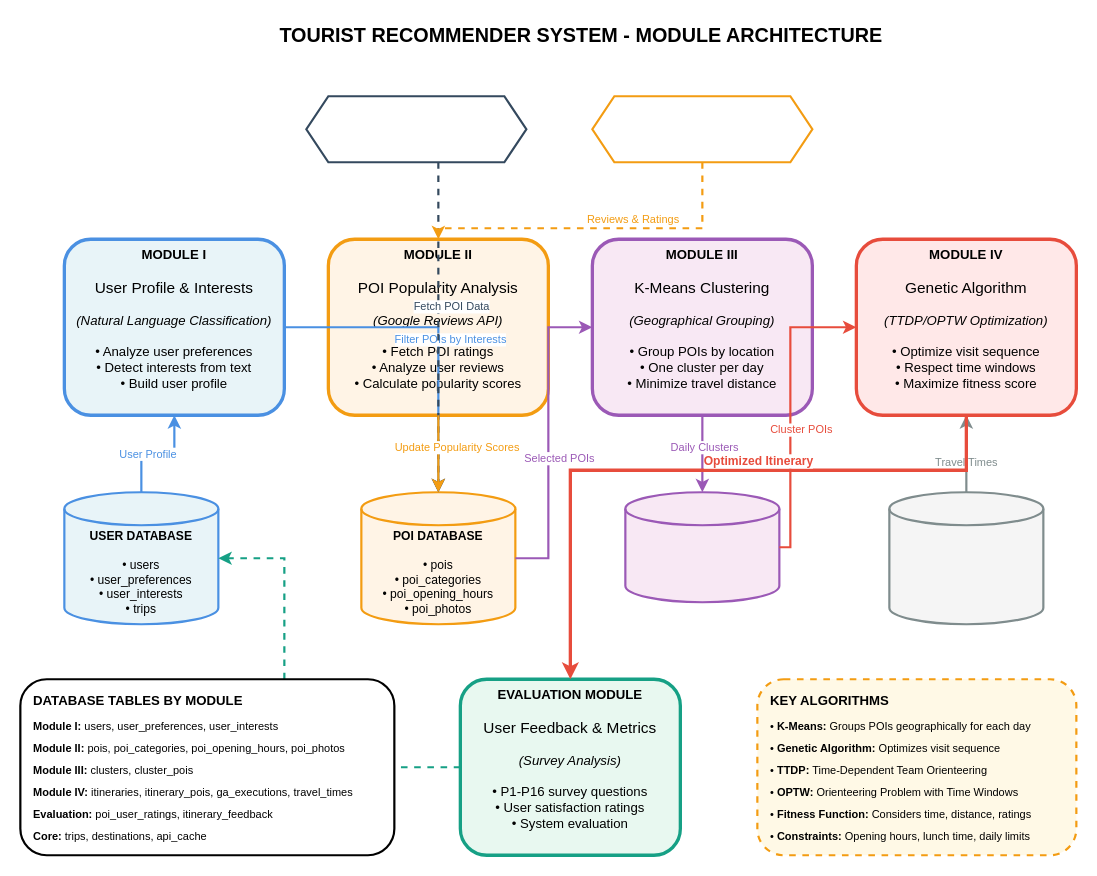
Some shapes in this 1097 by 876 pixel diagram are drawn without their labels. Here are the shapes that lost their labels. From the top down, the centre of each, then its label:
[416,129]: GOOGLE PLACES API • Place Details • Distance Matrix • Photos
[702,129]: GOOGLE REVIEWS API • User Reviews • Ratings • Popularity Data
[702,547]: CLUSTER DATA • clusters • cluster_pois
[966,558]: TRAVEL MATRIX • travel_times • distance_meters • duration_seconds
